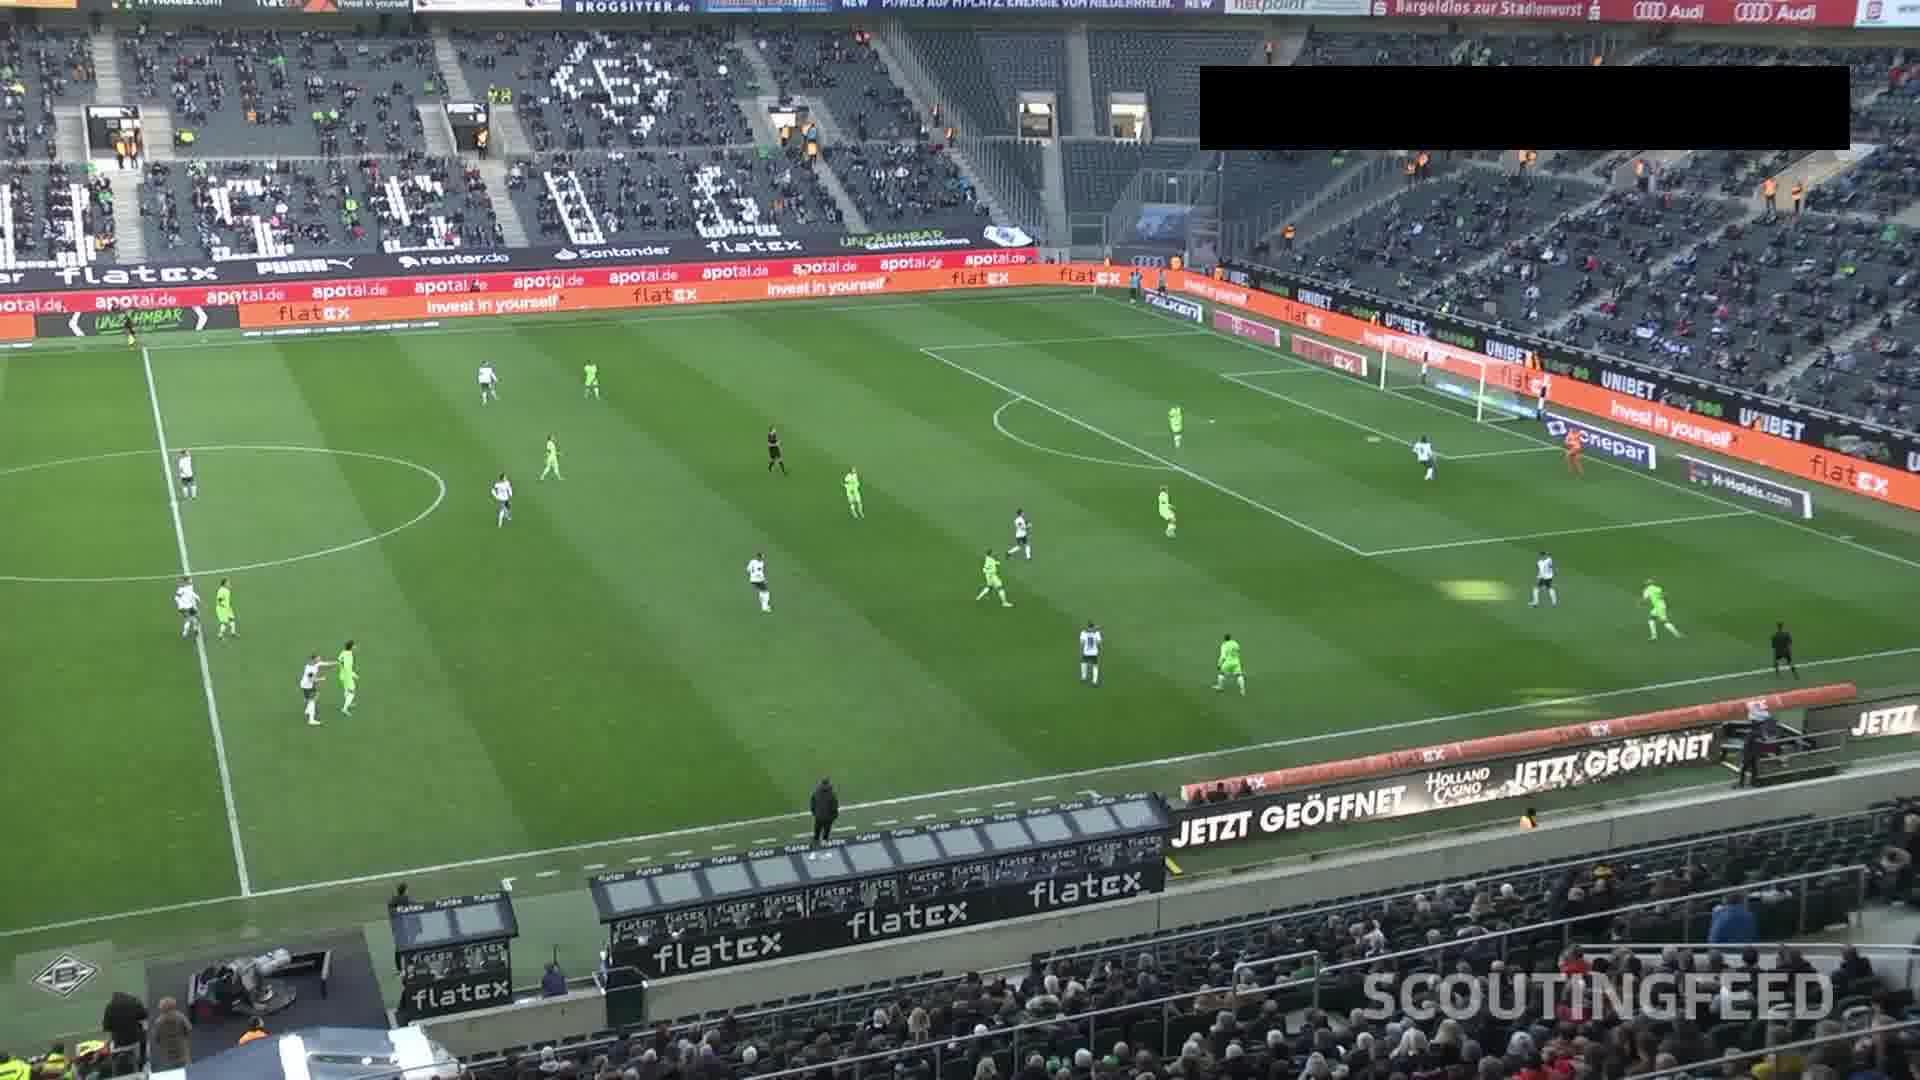football: (1364, 435, 1383, 447)
